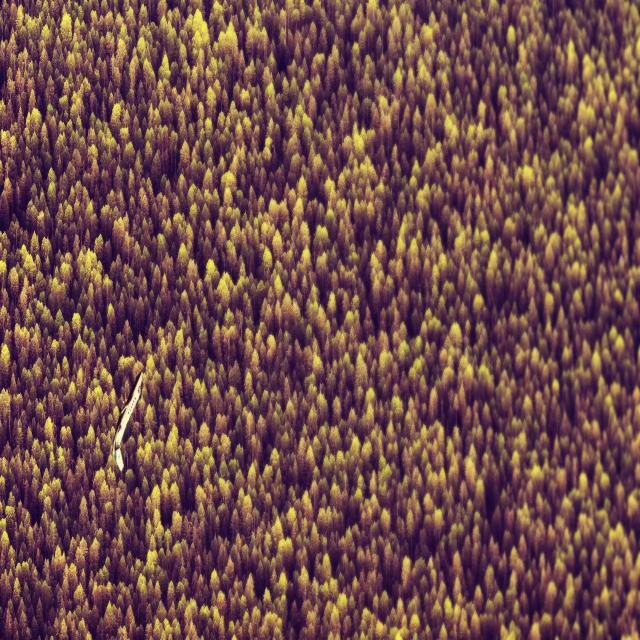airplane: (112, 370, 143, 472)
